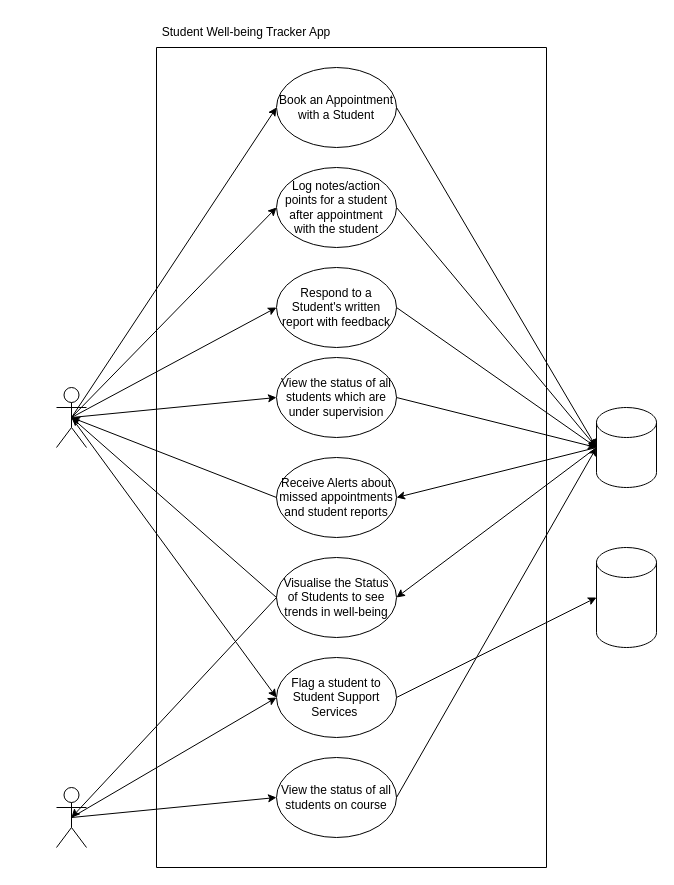
Image size: 674x885. Some labels were removed from this diagram. Each missing label, with the centre of its shape:
"App Central Database" goes at point (626, 447).
"Hull Student Support Database" goes at point (626, 597).
"Personal Supervisor" goes at point (71, 417).
"Senior Tutor" goes at point (71, 817).
